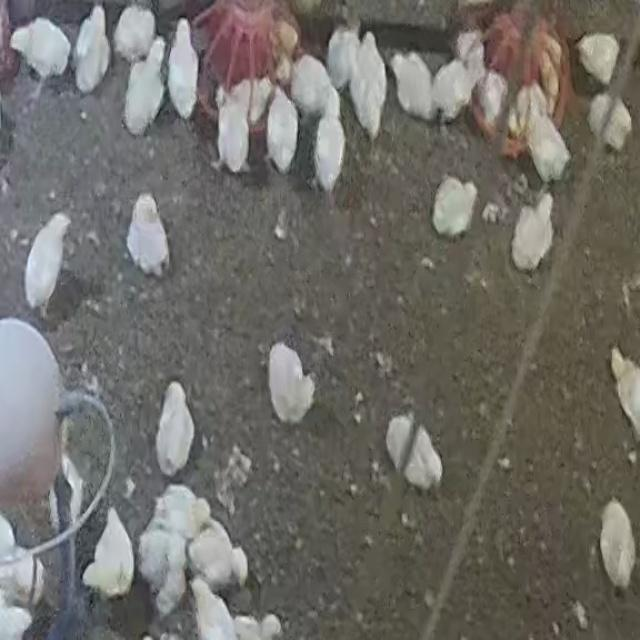chicken: (9, 17, 73, 106), (83, 506, 136, 598), (24, 214, 71, 313), (348, 32, 388, 136), (267, 342, 316, 426), (186, 519, 242, 592), (156, 382, 195, 477), (126, 192, 169, 277), (526, 106, 572, 183), (137, 527, 185, 600), (599, 500, 636, 594), (124, 54, 166, 135), (511, 194, 555, 271), (39, 271, 96, 326), (389, 52, 434, 121), (167, 21, 199, 117), (290, 54, 338, 118), (103, 580, 157, 636), (75, 8, 110, 93), (432, 57, 477, 123), (402, 423, 444, 492), (151, 483, 201, 540), (266, 87, 298, 175), (432, 176, 478, 237), (216, 94, 251, 174), (190, 580, 238, 637), (314, 109, 346, 193), (289, 111, 322, 188), (113, 4, 157, 61), (576, 32, 620, 84), (195, 68, 227, 139), (330, 162, 371, 217), (216, 448, 252, 506), (326, 23, 358, 88), (474, 71, 508, 131), (616, 362, 640, 446), (600, 98, 632, 152), (510, 153, 550, 195), (386, 415, 414, 474), (570, 51, 604, 99), (12, 554, 44, 605), (60, 455, 82, 526), (512, 83, 540, 138), (587, 91, 615, 139), (0, 602, 34, 640), (247, 77, 271, 125), (455, 29, 482, 68), (0, 511, 16, 566), (9, 25, 32, 61), (0, 110, 16, 160), (610, 347, 628, 383), (621, 273, 640, 306), (275, 50, 292, 84), (259, 615, 282, 639), (49, 485, 60, 533), (571, 602, 588, 632), (314, 333, 334, 358), (274, 207, 288, 241), (482, 201, 501, 224), (1, 92, 10, 136), (457, 0, 493, 11), (236, 452, 251, 477), (124, 476, 136, 498), (423, 589, 436, 609)
